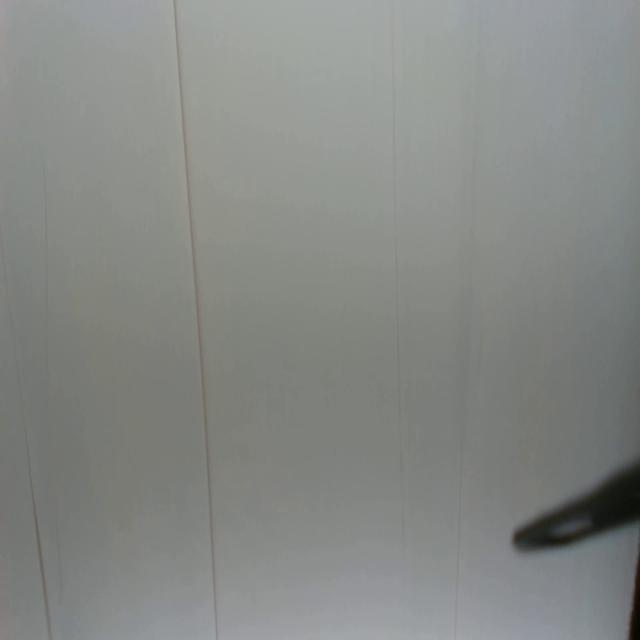crease: (171, 0, 219, 639), (451, 2, 481, 639), (4, 268, 52, 639), (388, 0, 409, 621), (39, 159, 52, 380)
